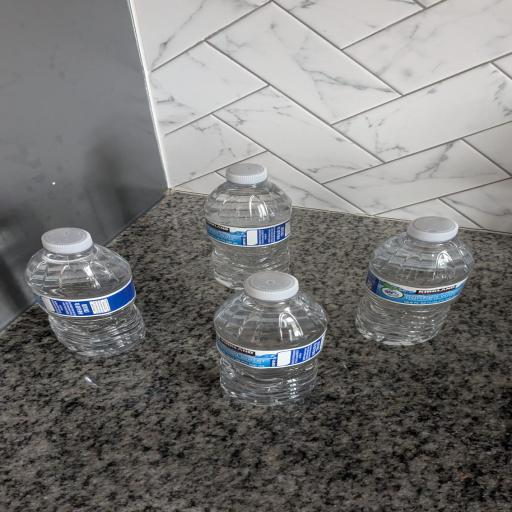waterbottle: (26, 228, 144, 355), (356, 217, 473, 345), (215, 272, 327, 405), (205, 164, 291, 289)
